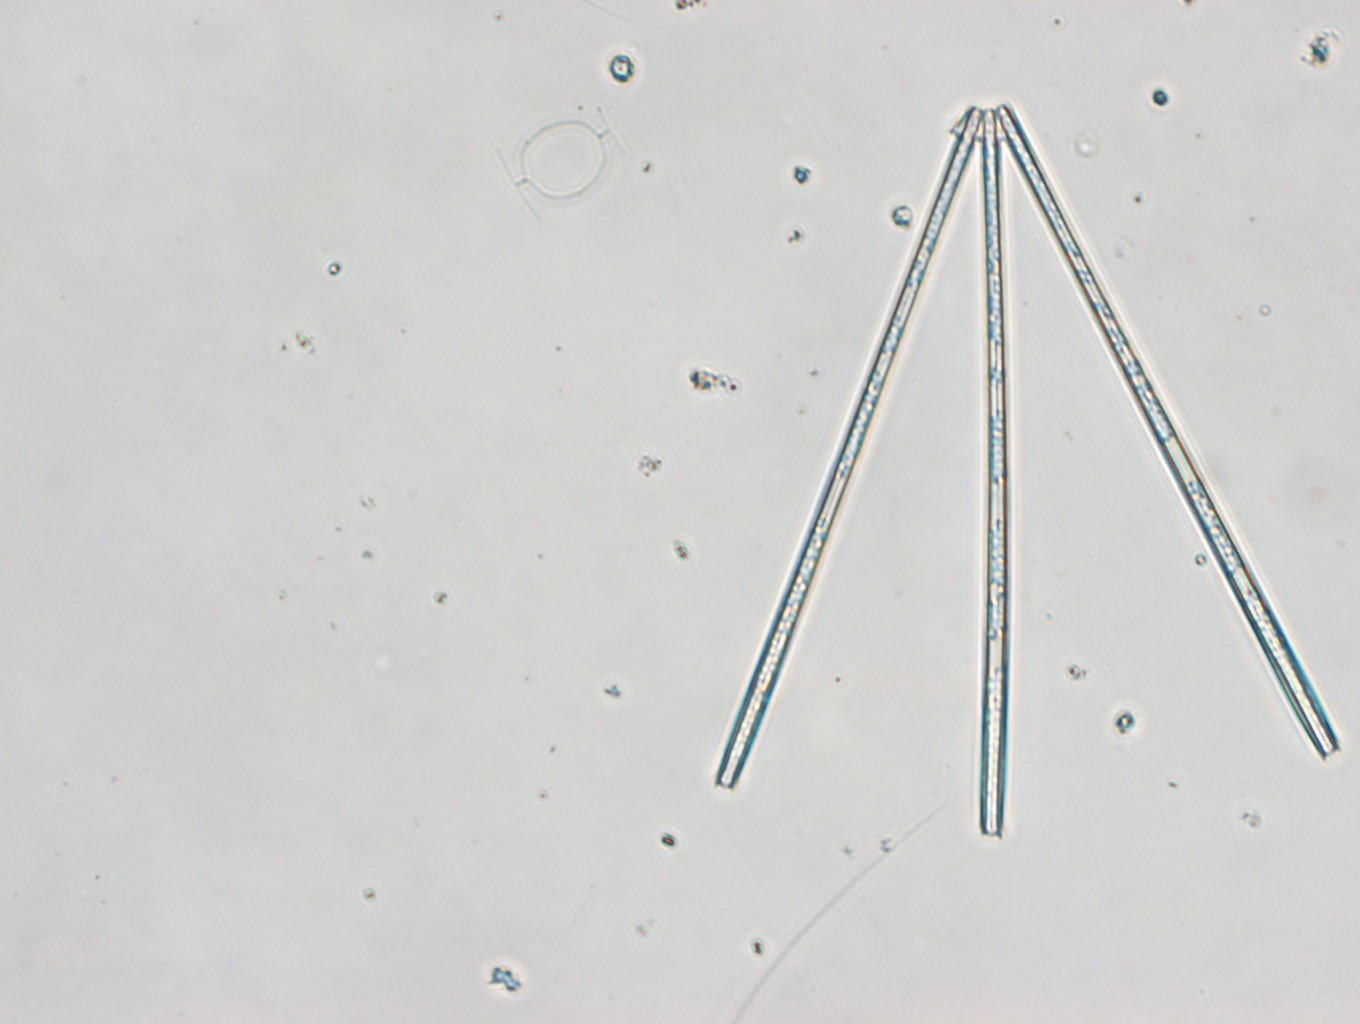eucampia: (500, 105, 628, 224)
thalassionema frauenfeldii: (718, 103, 1338, 835)
